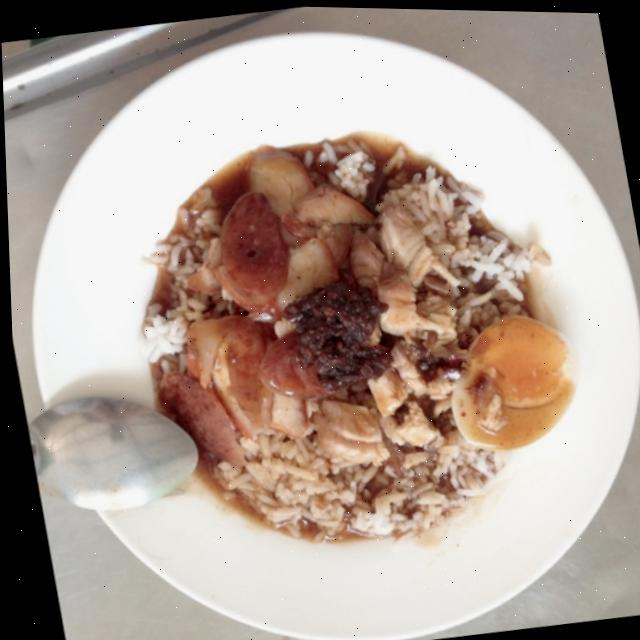猪肉菜式: (2, 0, 640, 640)
